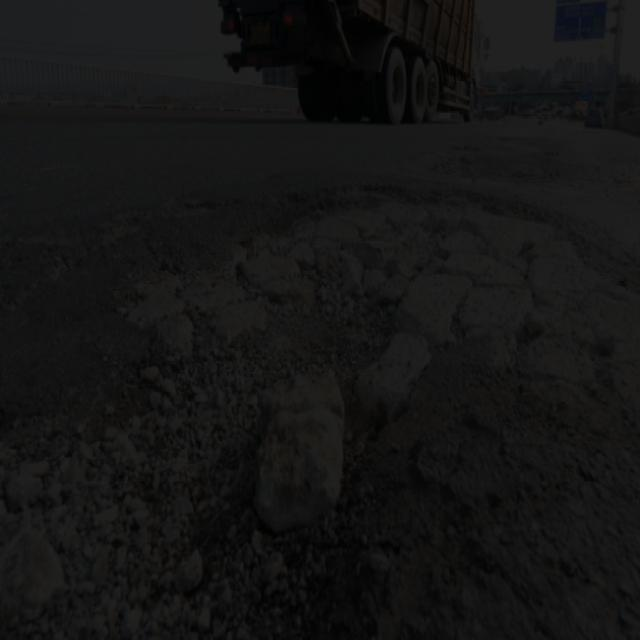pothole: (128, 135, 616, 533)
